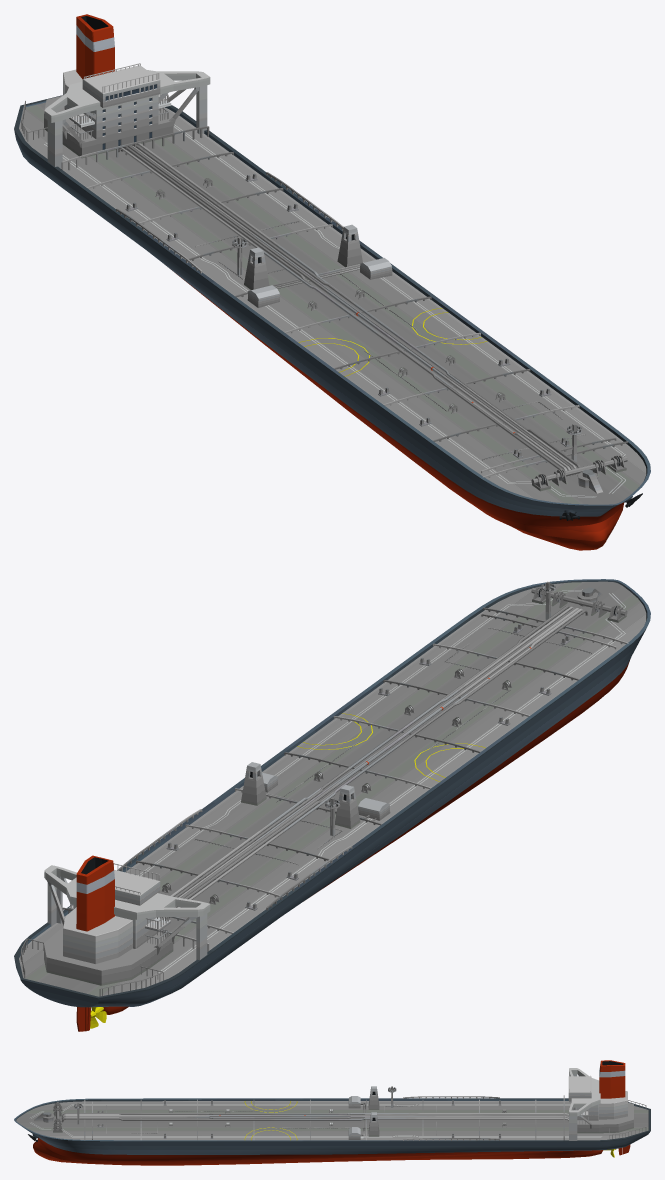
File: tanker_ship.glb
3 views of the same model, one above another, from view 1: azimuth 30°, elevation 25°; view 2: azimuth 150°, elevation 25°; view 3: azimuth 270°, elevation 25° (orthographic). The views are drawn at different scales.
Parts seen in each view (by area): view 1: Tanker ship; view 2: Tanker ship; view 3: Tanker ship.
Boxes of the visible parts, x1,y1,x2,y2 form: Tanker ship: [14, 14, 650, 550]; Tanker ship: [14, 579, 650, 1031]; Tanker ship: [14, 1060, 650, 1165].
Bounding box in the file's own units: 53.17 × 54.09 × 324.
5 materials, 5 textured.
